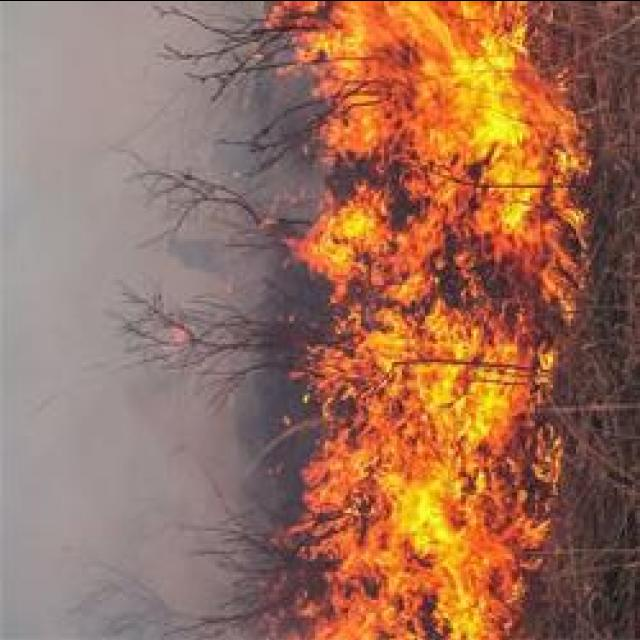fire: (326, 338, 542, 514), (417, 22, 551, 270), (288, 544, 486, 638), (448, 501, 518, 640)
smoke: (8, 368, 220, 598)
